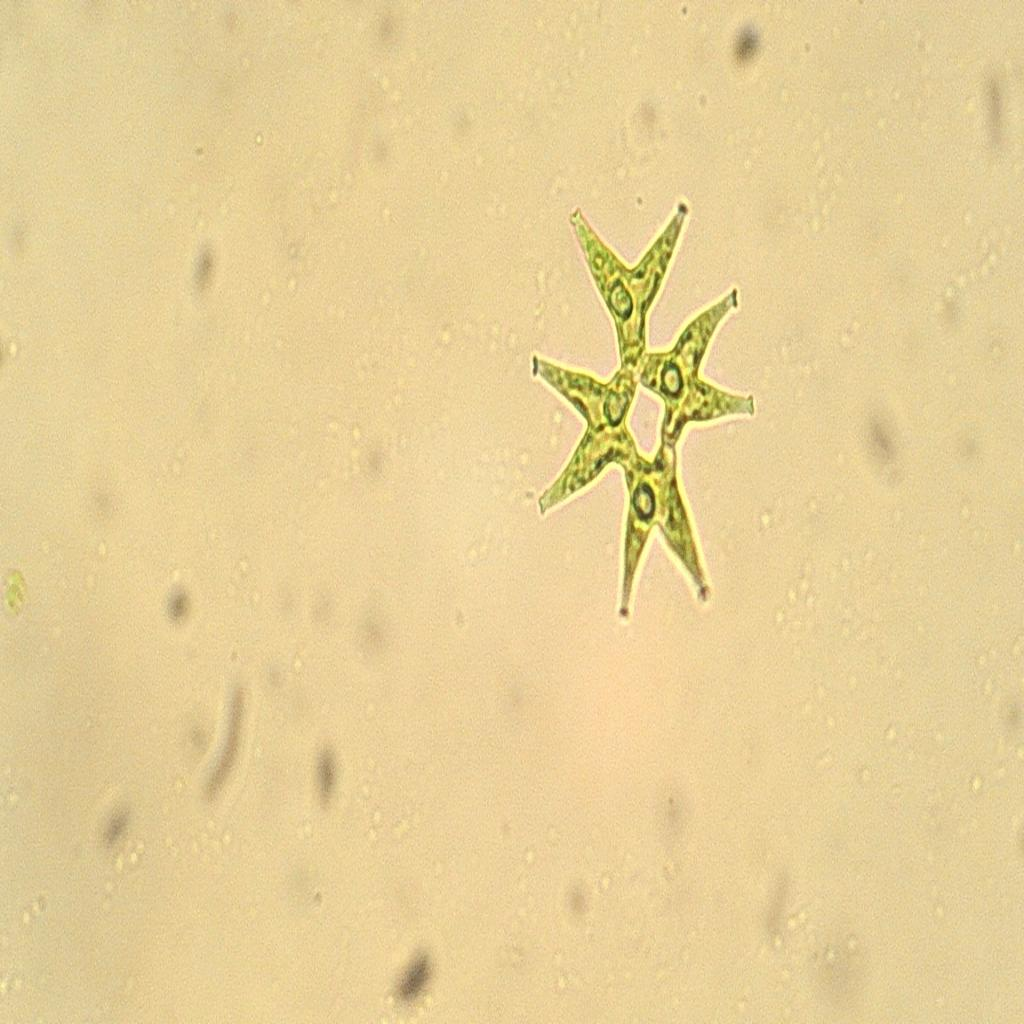Pediastrum_CT: (519, 173, 761, 644)
